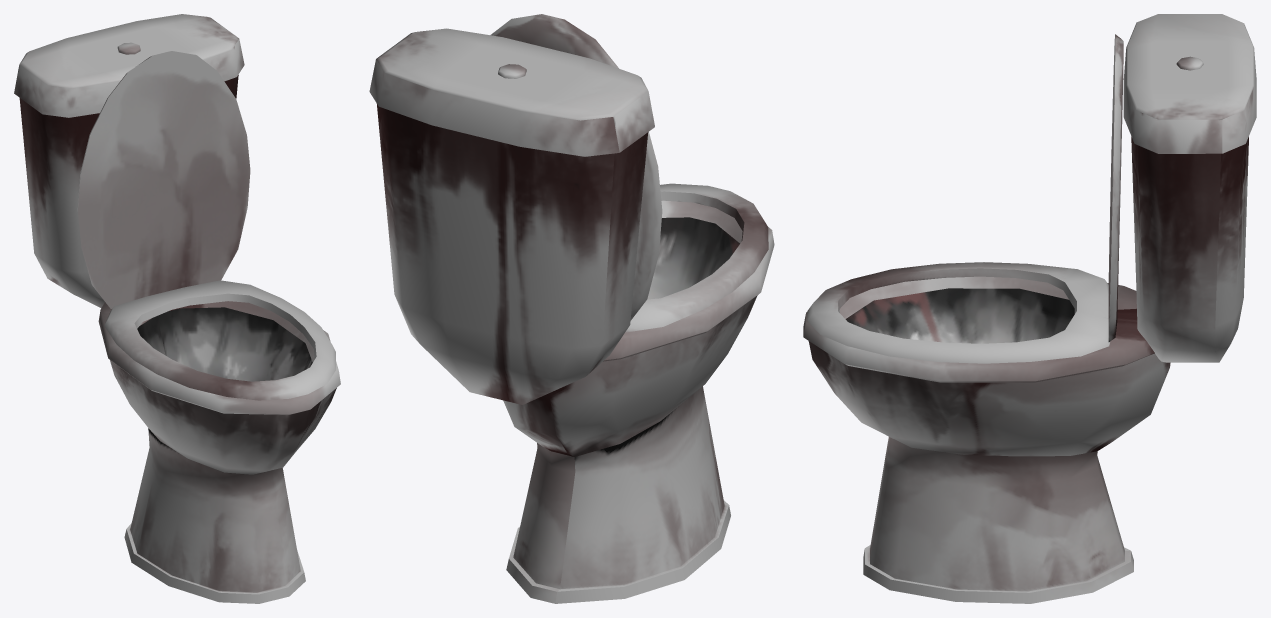
File: ToiletAsset.fbx
3 views of the same model, side by side, from view 1: azimuth 30°, elevation 25°; view 2: azimuth 150°, elevation 25°; view 3: azimuth 270°, elevation 25° (orthographic). The views are drawn at different scales.
Visible parts, largest first — view 1: Toilet, FullLid, Tank, HoleLid; view 2: Tank, Toilet, HoleLid, FullLid; view 3: Toilet, Tank, HoleLid, FullLid.
Boxes of the visible parts, box(x1,y1,x2,y2) form: Toilet: box(98, 301, 340, 603); FullLid: box(77, 51, 250, 308); Tank: box(14, 14, 244, 307); HoleLid: box(104, 280, 335, 400); Tank: box(369, 28, 654, 404); Toilet: box(503, 200, 774, 603); HoleLid: box(625, 183, 768, 332); FullLid: box(490, 14, 662, 320); Toilet: box(803, 276, 1170, 603); Tank: box(1123, 14, 1256, 362); HoleLid: box(807, 262, 1109, 363); FullLid: box(1108, 34, 1123, 341).
Bounding box in the file's own units: 42.94 × 73.87 × 94.43.
